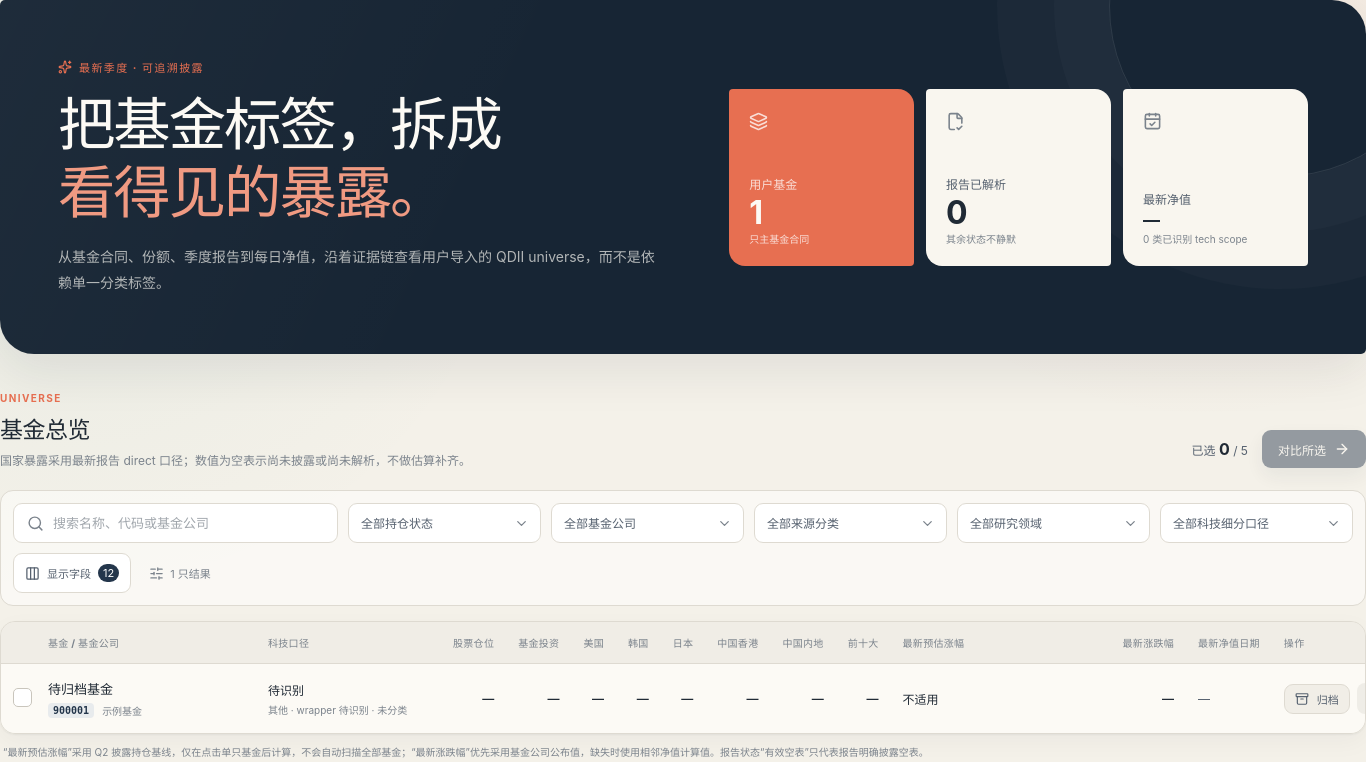
Test: FundOverviewPage › archives a fund and refreshes the active universe immediately
Click the button with aria-label "归档 待归档基金": (1317,698) left=1284, top=684, right=1350, bottom=714
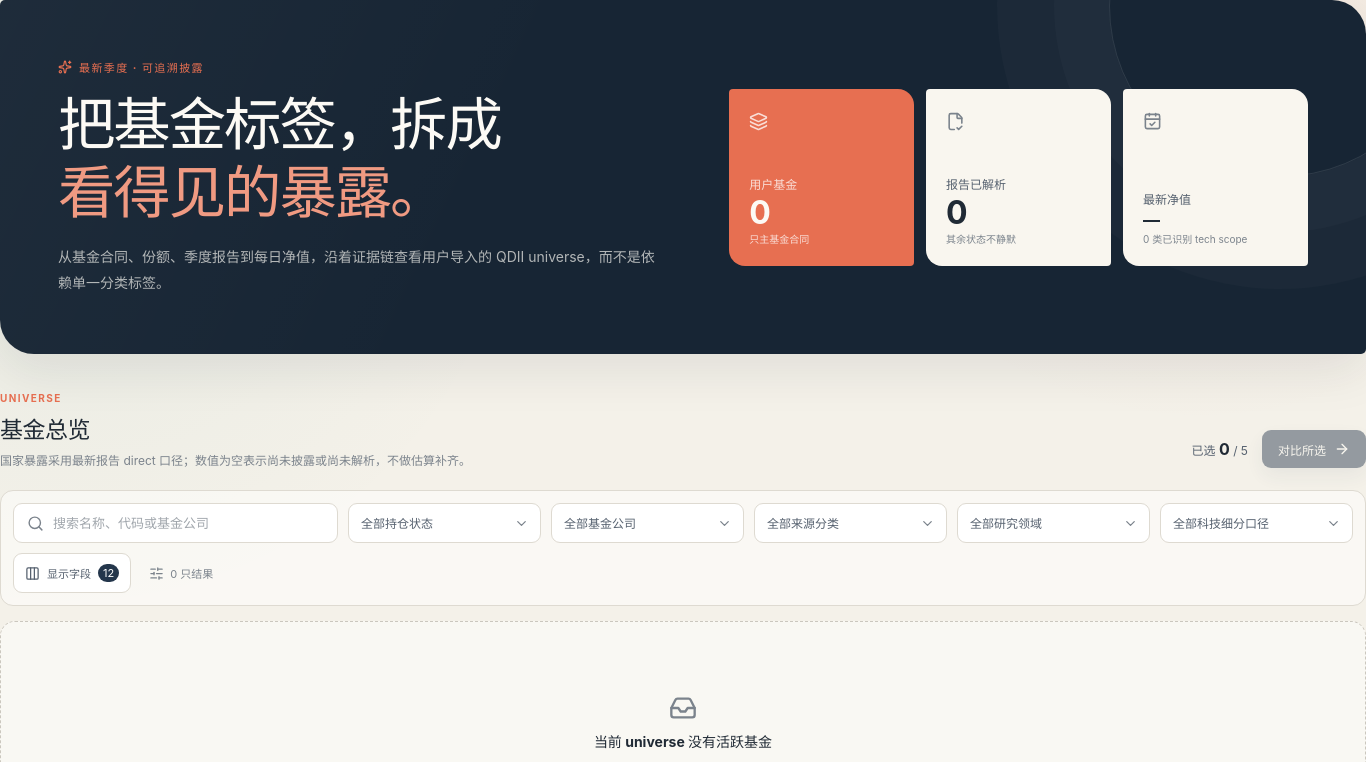
Expected: the text "当前 universe 没有活跃基金" is shown, left=594, top=731, right=772, bottom=751
